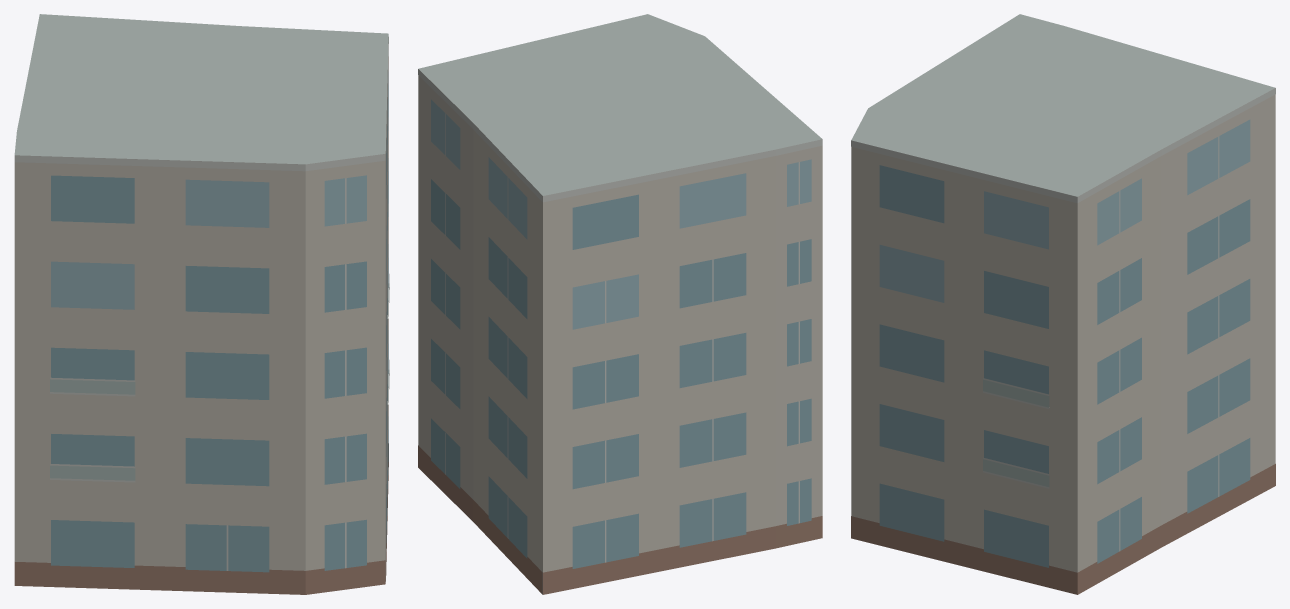
The model's file is survey-upis-32750167.glb.
3 renders of one model, left to right at view 1: azimuth 30°, elevation 25°; view 2: azimuth 150°, elevation 25°; view 3: azimuth 270°, elevation 25°, orthographic. The views are drawn at different scales.
Parts seen in each view (by area): view 1: survey-upis-32750167.tmp; view 2: survey-upis-32750167.tmp; view 3: survey-upis-32750167.tmp.
Part boxes in pixels (bbox=[...]): survey-upis-32750167.tmp: bbox=[14, 14, 389, 594]; survey-upis-32750167.tmp: bbox=[418, 14, 822, 594]; survey-upis-32750167.tmp: bbox=[851, 14, 1275, 594].
Bounding box in the file's own units: 15.04 × 15.25 × 14.76.
